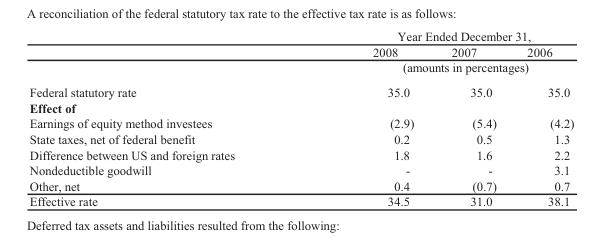table: (28, 29, 573, 208)
table column: (28, 29, 303, 208), (303, 29, 432, 208), (432, 29, 511, 208), (511, 29, 573, 208)
table column header: (28, 29, 573, 79)
table projected row header: (28, 99, 573, 115)
table row: (28, 59, 573, 79), (28, 79, 573, 99), (28, 99, 573, 115), (28, 130, 573, 146), (28, 146, 573, 162), (28, 177, 573, 193), (28, 29, 573, 44), (28, 44, 573, 59), (28, 115, 573, 130), (28, 162, 573, 177), (28, 193, 573, 208)
table spanning cell: (303, 59, 573, 79), (303, 29, 573, 44)
